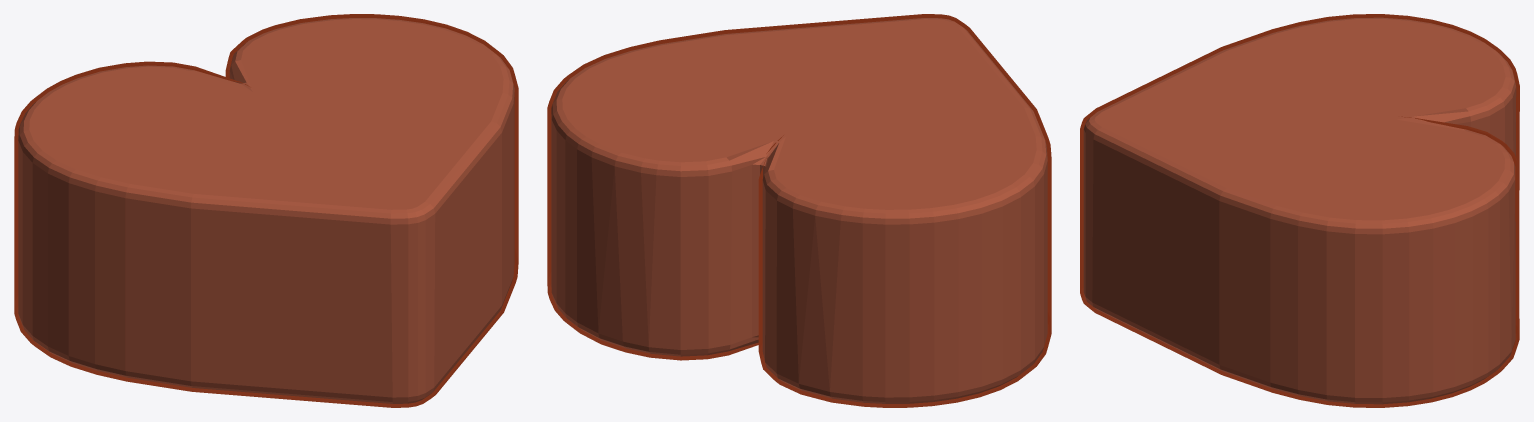
Rendered from coracao chocolate.glb.
3 renders of one model, left to right at view 1: azimuth 30°, elevation 25°; view 2: azimuth 150°, elevation 25°; view 3: azimuth 270°, elevation 25°, orthographic. The views are drawn at different scales.
Visible parts, largest first — view 1: Circle.004; view 2: Circle.004; view 3: Circle.004.
Part boxes in pixels (left/top/right/bottom): Circle.004: left=14, top=14, right=518, bottom=407; Circle.004: left=547, top=14, right=1051, bottom=407; Circle.004: left=1080, top=14, right=1519, bottom=407.
Bounding box in the file's own units: 24.16 × 10 × 21.03.
